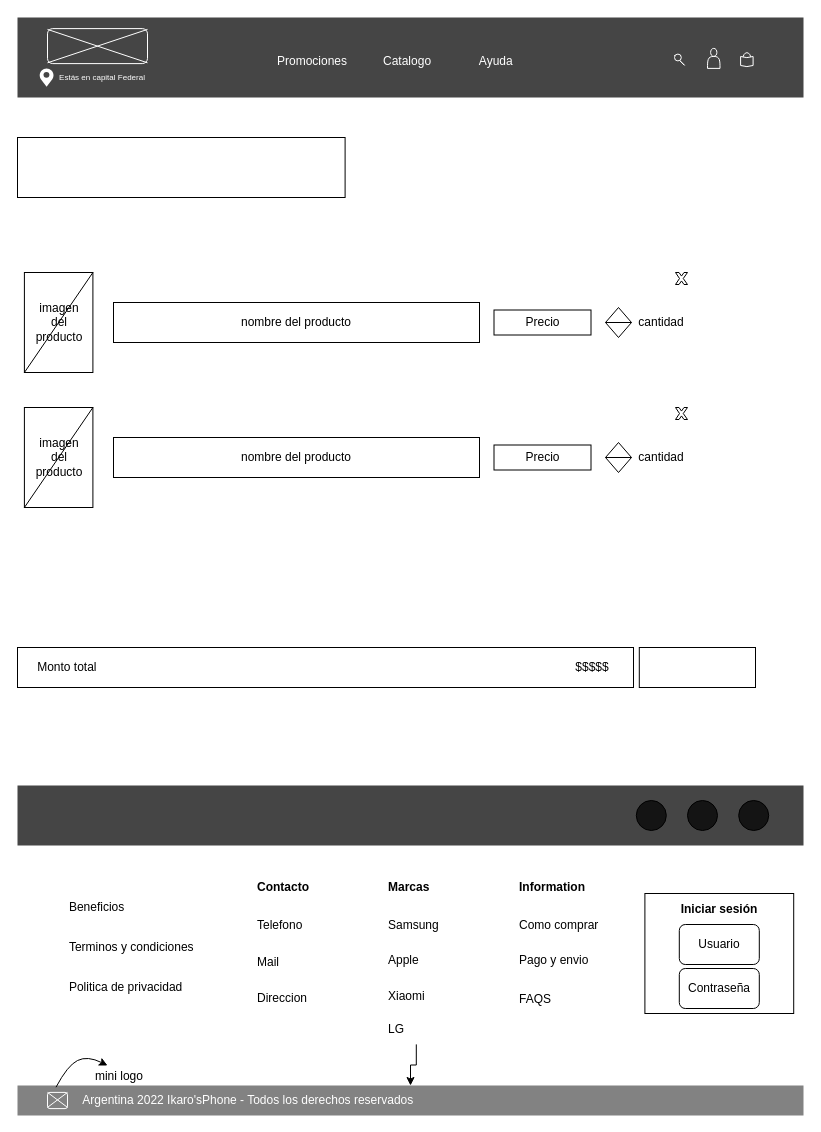
The diagram is 821 pixels wide and 1132 high, and some of its shapes have lost their labels. Here are the shapes that lost their labels. From the top down, the centre of each, then its label:
[180,167]: Tu carrito
[697,667]: Pagar
